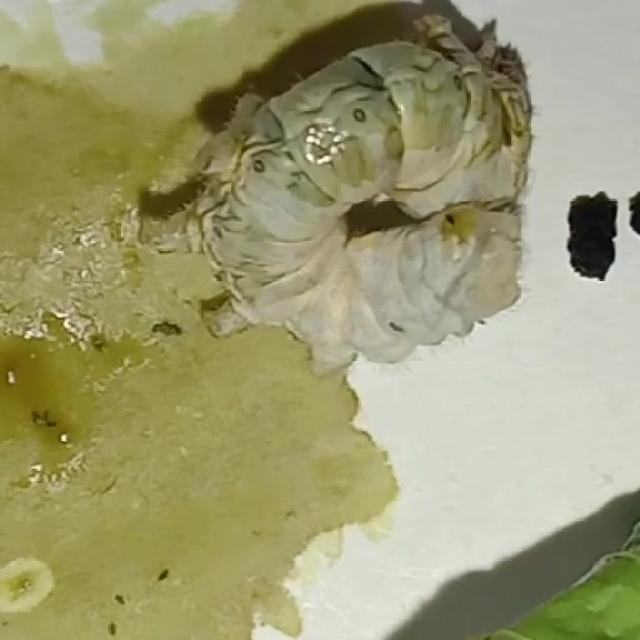Grasserie: (96, 0, 559, 405)
